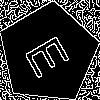E: (23, 28, 79, 81)
